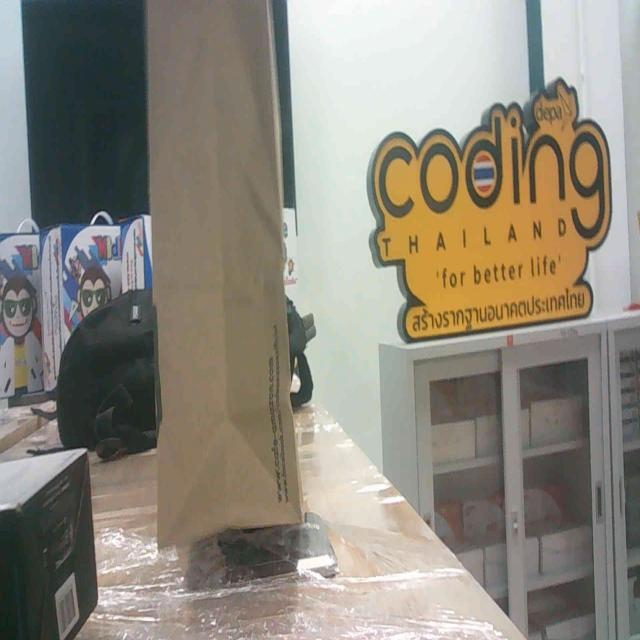bag: (140, 0, 294, 548)
